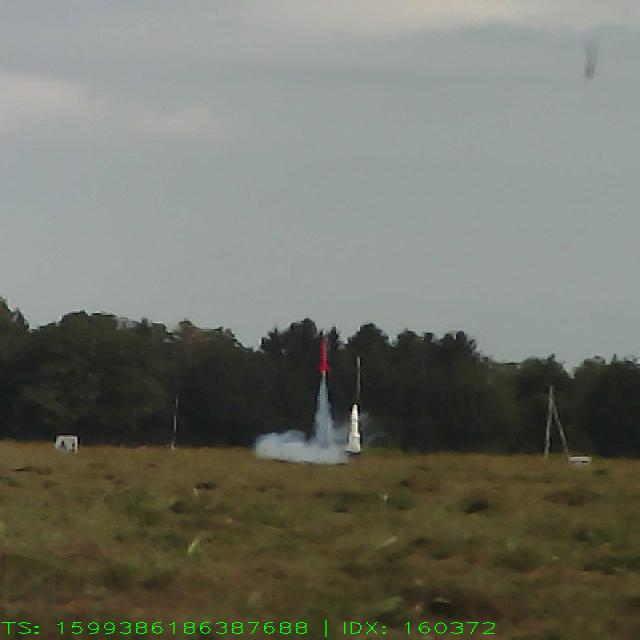Rocket: (345, 403, 362, 454), (317, 339, 331, 372)
